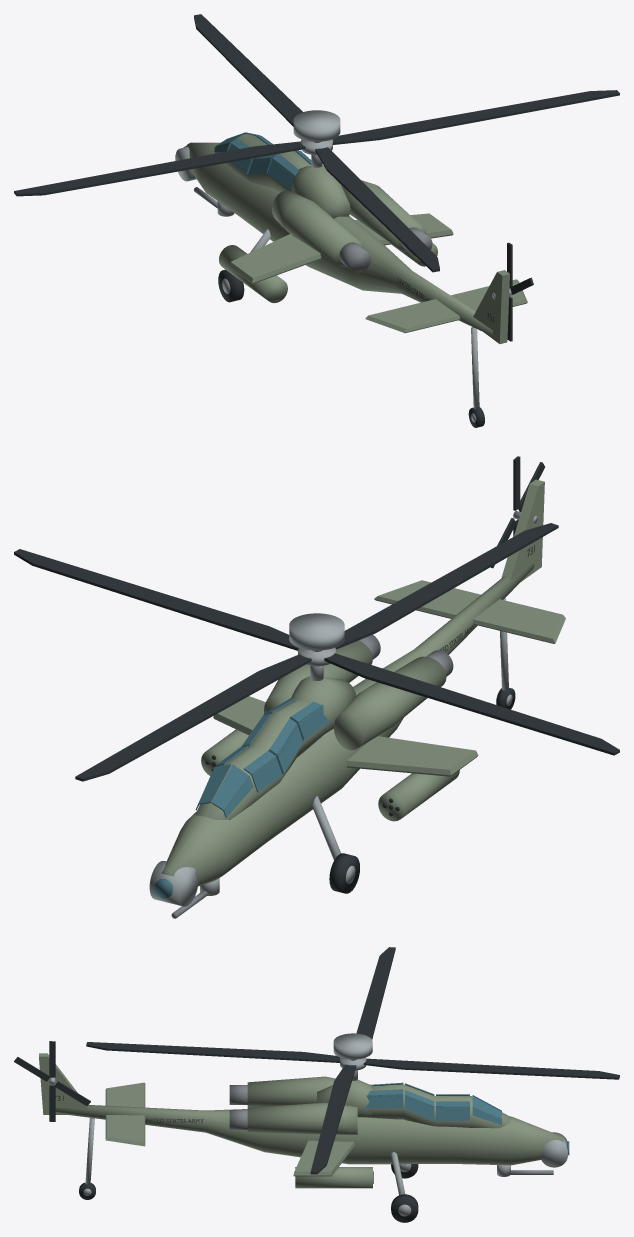
The model's file is moffett-ah64-apache.glb.
The picture shows the model from 3 angles, top to bottom: view 1: azimuth 30°, elevation 25°; view 2: azimuth 150°, elevation 25°; view 3: azimuth 270°, elevation 25°; orthographic projection. The views are drawn at different scales.
Visible parts, largest first — view 1: moffett-ah64-apache; view 2: moffett-ah64-apache; view 3: moffett-ah64-apache.
Boxes of the visible parts, x1,y1,x2,y2 form: moffett-ah64-apache: (14, 14, 619, 427); moffett-ah64-apache: (14, 456, 619, 918); moffett-ah64-apache: (14, 947, 619, 1222).
Size of the model in its own units: 14.47 by 4.85 by 16.43.
